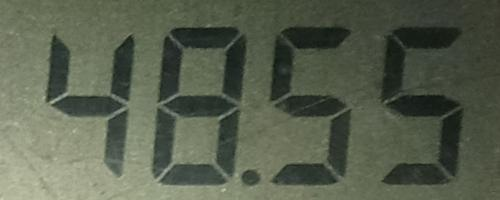.: (240, 167, 259, 187)
